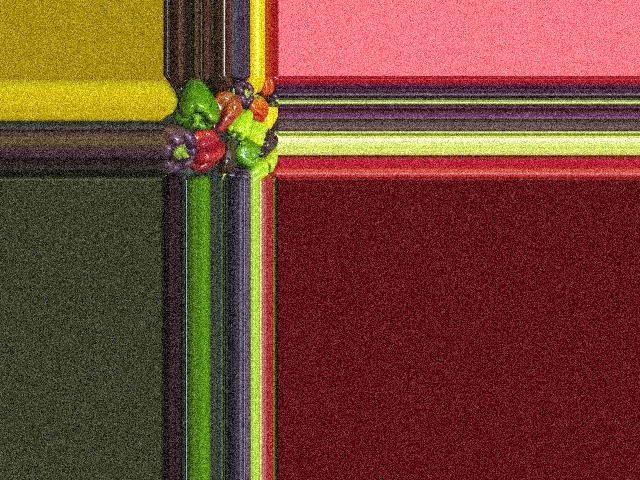bell_pepper: (233, 78, 258, 106)
